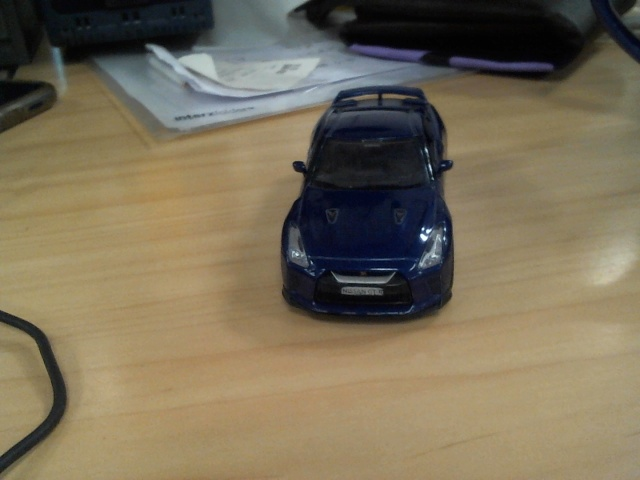car: (279, 85, 456, 318)
